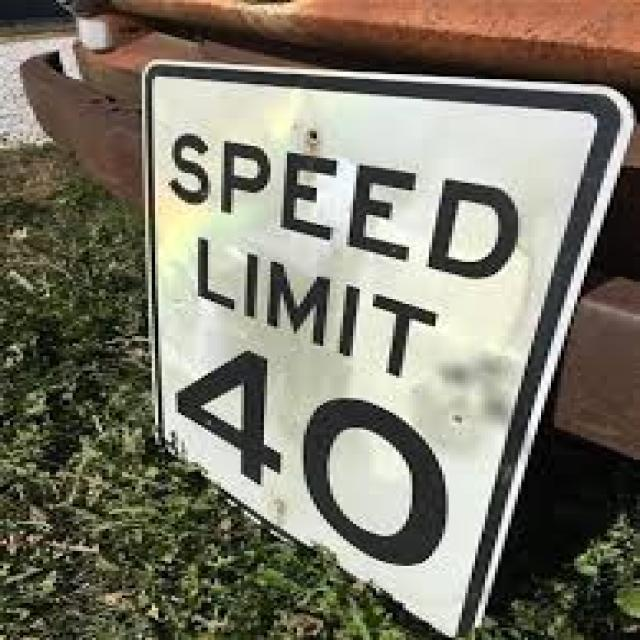speedLimit40: (144, 56, 618, 636)
